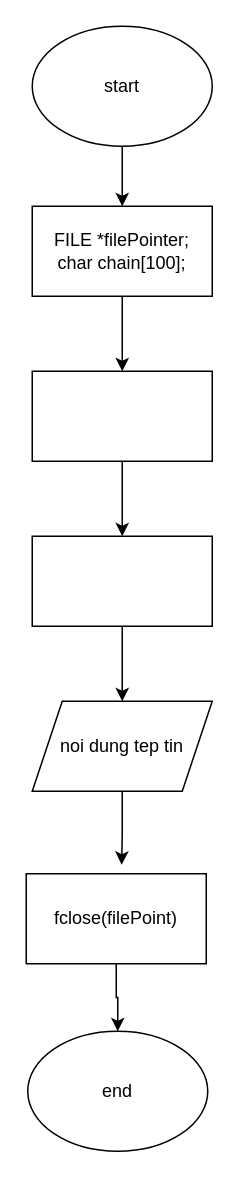
Some shapes in this 245 by 1178 pixel diagram are drawn without their labels. The shapes that lost their labels are listed below. From the top down, each one's centre as x and y in pixels, then its label:
At [121,415]: "mo tep tin bang file".
At [121,580]: "fread(chain,sizeof(char), sizeof(chain),file);".
